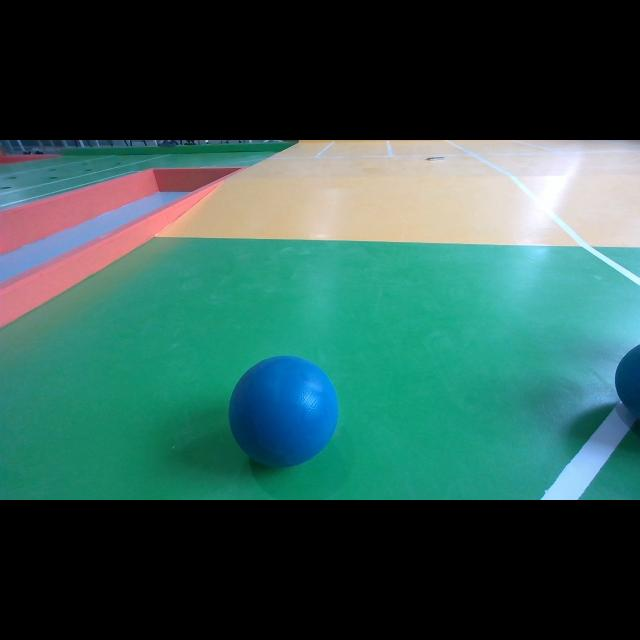B: (230, 355, 340, 469)
